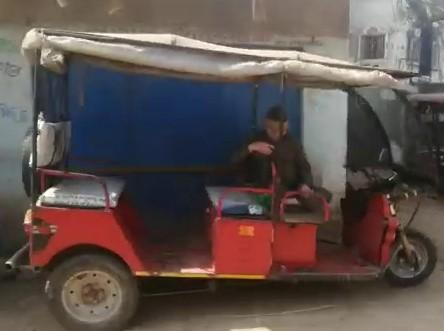Auto: (19, 19, 439, 331)
